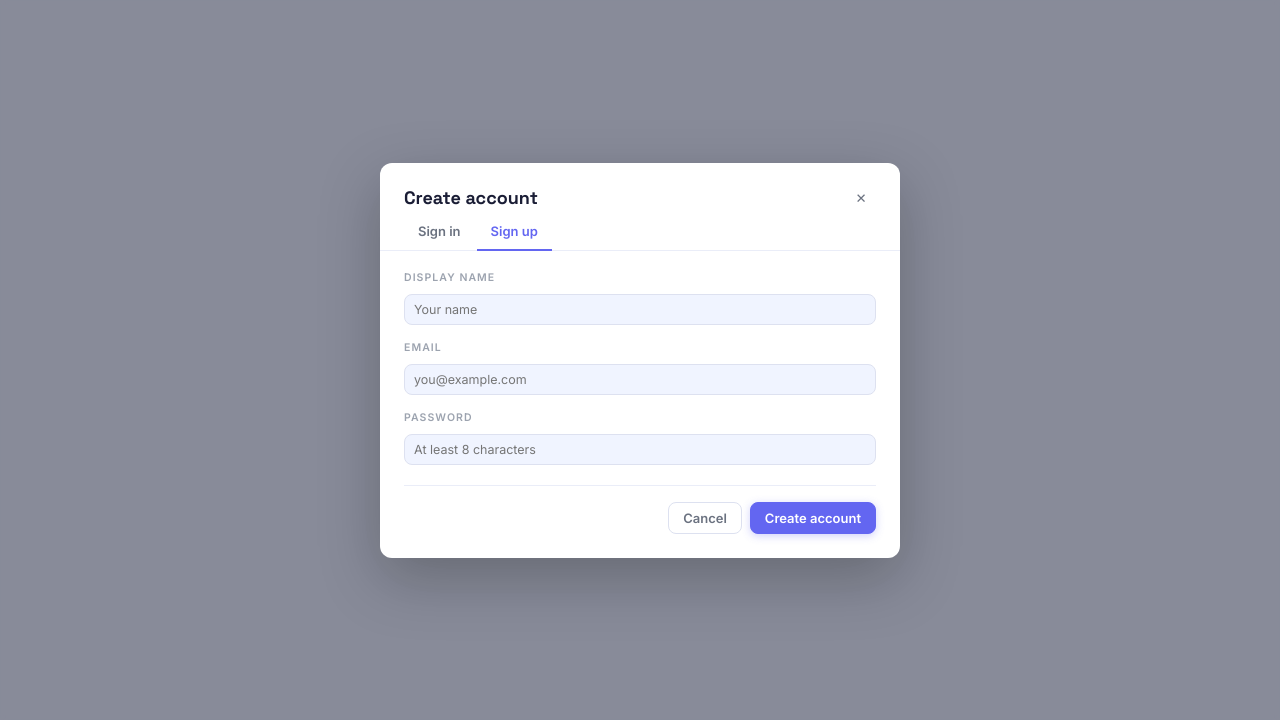
Test: AuthModal › tab switching › switches back to login tab from signup
Click the button "Sign in".
click(439, 232)  # box [404,212,475,250]
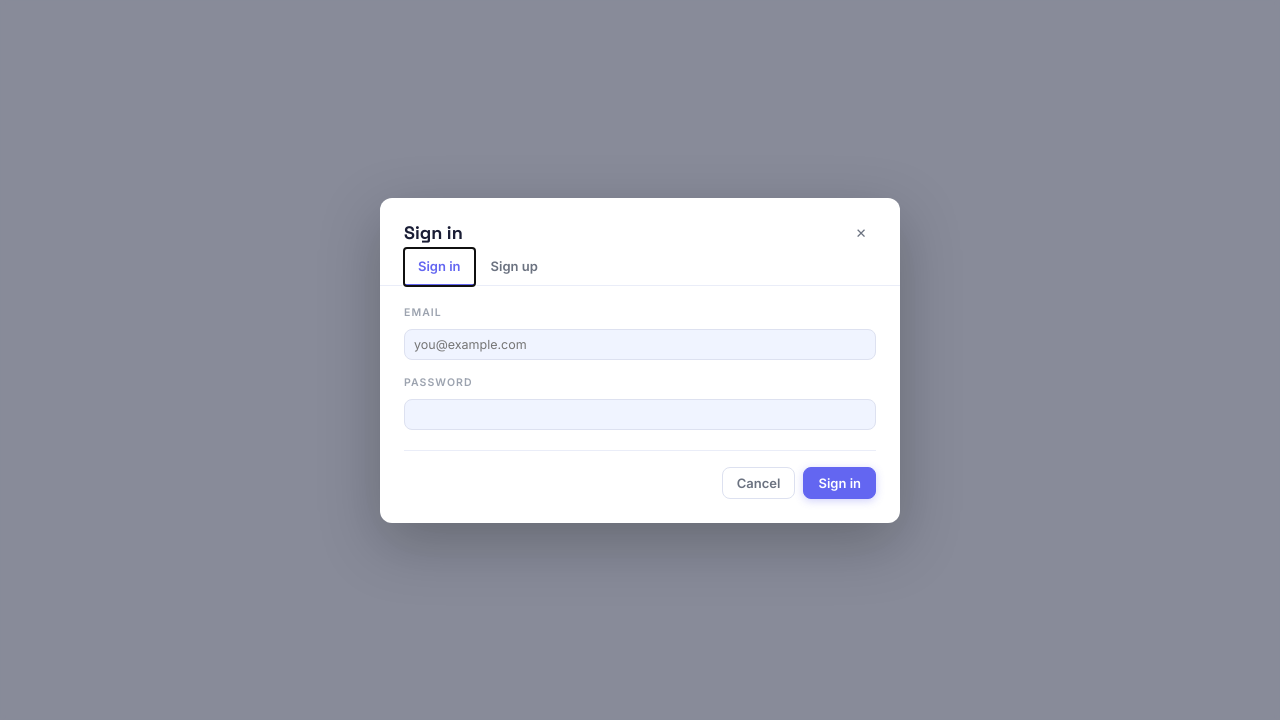
Expected: the heading "Sign in" is shown, [404,221,463,244]
Expected: the label labelled "Display name" is gone
